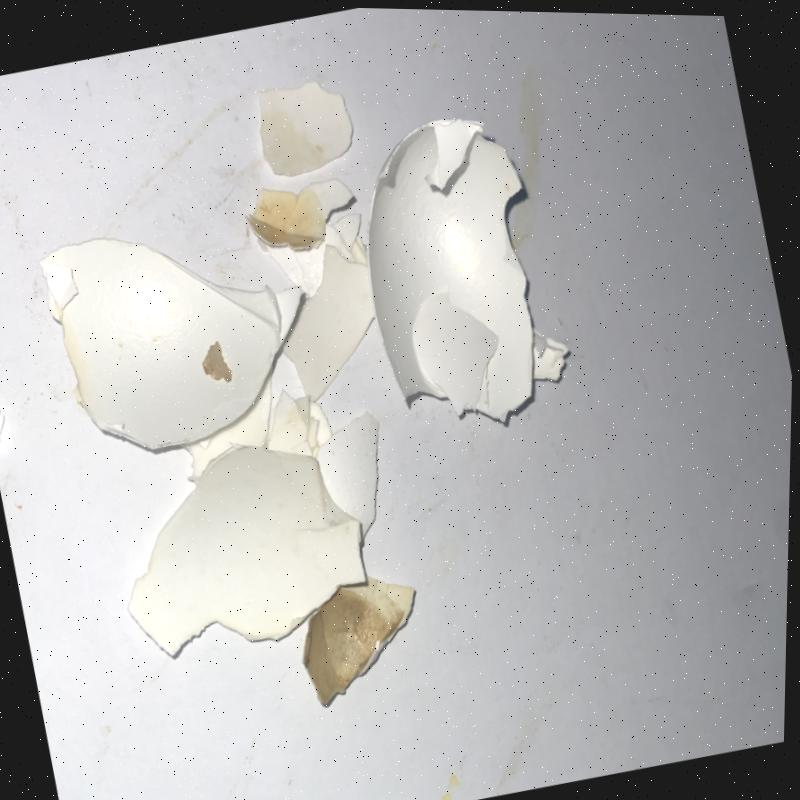egg shell: (126, 390, 376, 658), (366, 118, 570, 422), (38, 238, 301, 450), (245, 178, 373, 401), (257, 82, 352, 177)
